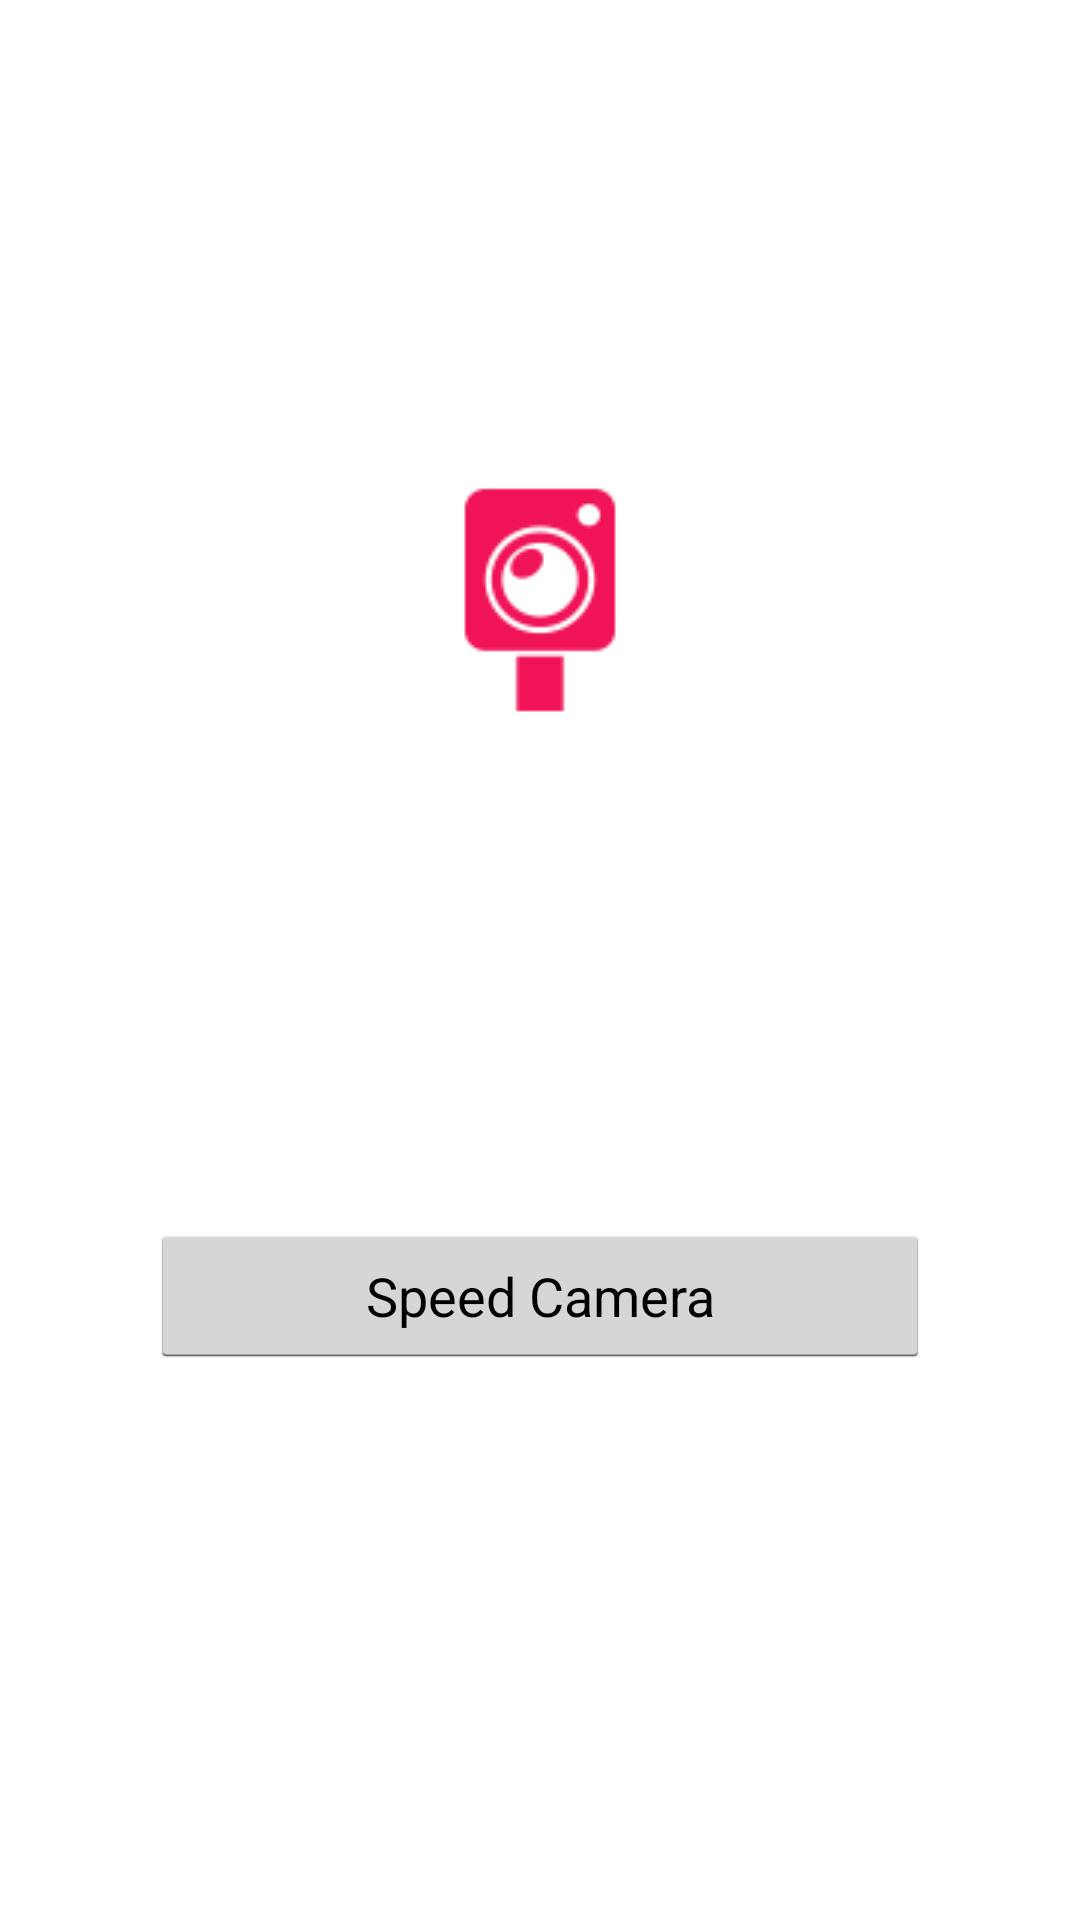

Where to tap for icons on this 1080 x 1920 app screen, as [x,y]:
camera type fixed: [540,600]
